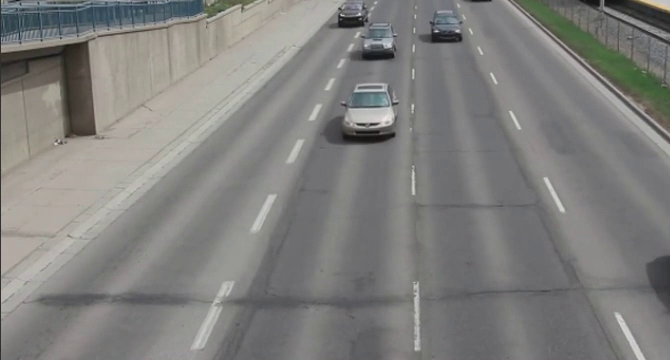car: (339, 81, 403, 142), (361, 23, 400, 58), (430, 10, 462, 44), (336, 4, 367, 29)
